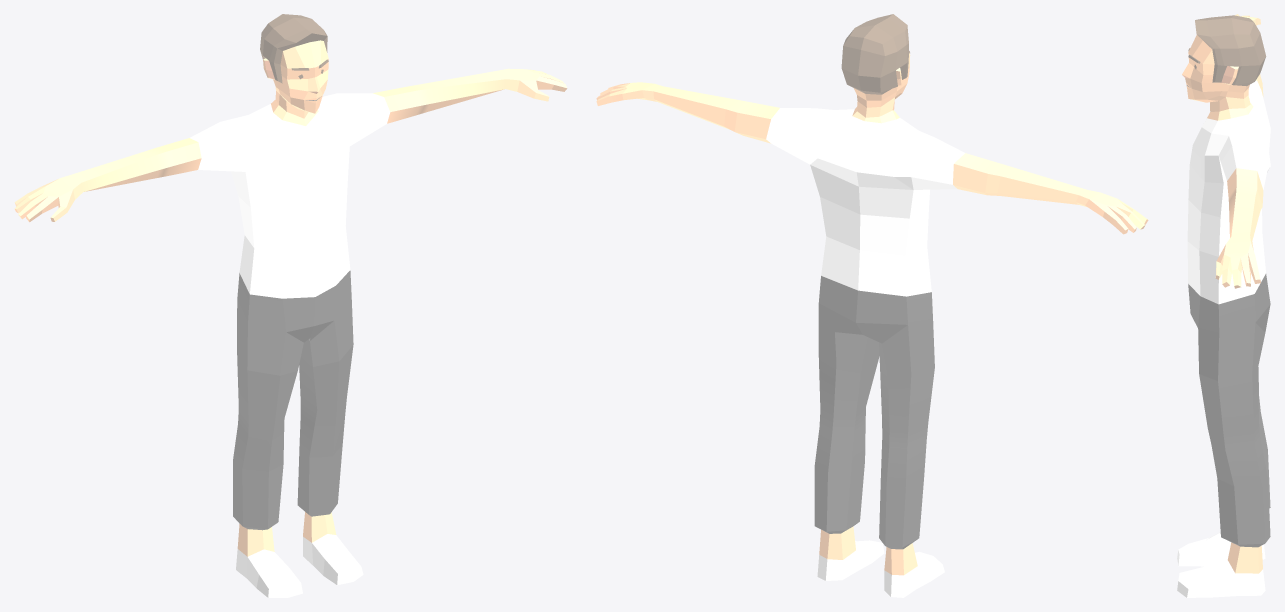
Rendered from 217_man_casual.gltf.
3 views of the same model, side by side, from view 1: azimuth 30°, elevation 25°; view 2: azimuth 150°, elevation 25°; view 3: azimuth 270°, elevation 25° (orthographic).
Parts seen in each view (by area): view 1: man_casual; view 2: man_casual; view 3: man_casual.
Part boxes in pixels (box(x1,y1,x2,y2)): man_casual: box(14, 14, 567, 597); man_casual: box(596, 14, 1148, 597); man_casual: box(1177, 14, 1270, 597).
Bounding box in the file's own units: 1.86 × 1.8 × 0.2755.
Materials: 1 (1 with a texture image).
